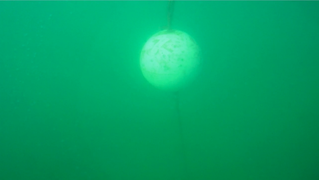buoy: (139, 29, 204, 92)
